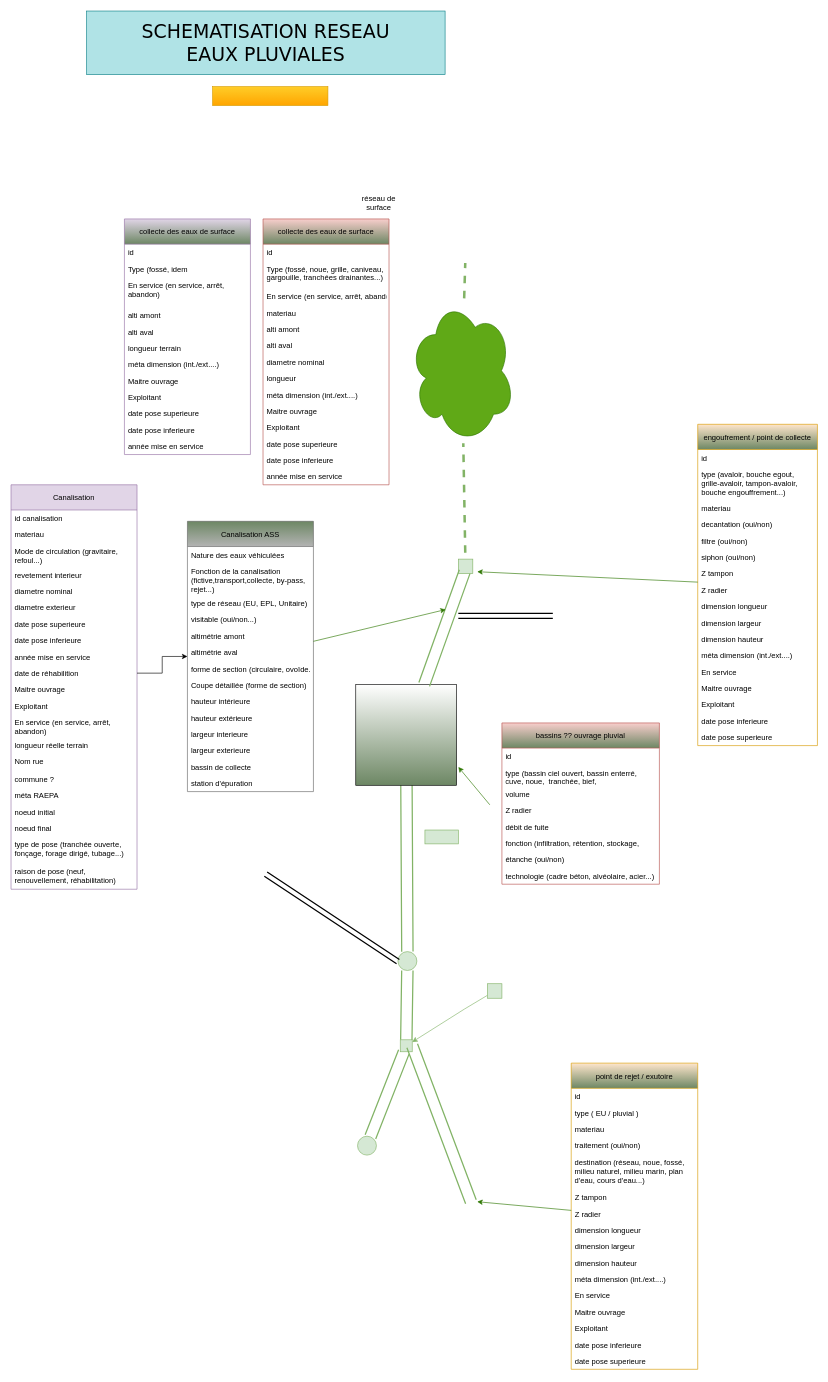
The diagram is 828 pixels wide and 1382 high, and some of its shapes have lost their labels. Here are the shapes that lost their labels. From the top down, the centre of each, then its label:
pixel 270 96: Mise à jour 21/06/2022
pixel 406 734: stockage
pixel 441 836: pluvial
pixel 366 1145: PI
